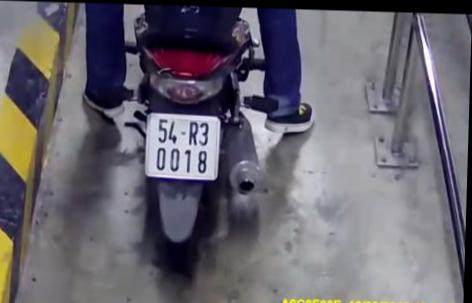LP: (144, 107, 225, 183)
